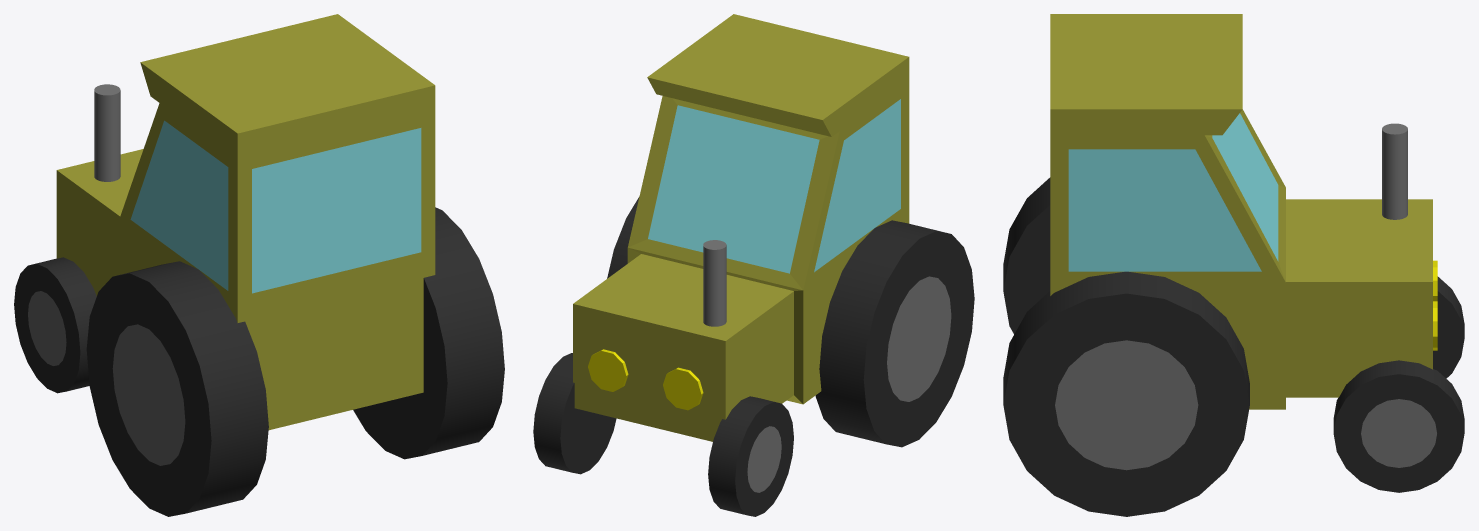
Rendered from Tractor.fbx.
The picture shows the model from 3 angles, left to right: view 1: azimuth 30°, elevation 25°; view 2: azimuth 150°, elevation 25°; view 3: azimuth 270°, elevation 25°; orthographic projection. The views are drawn at different scales.
Visible parts, largest first — view 1: Tractor; view 2: Tractor; view 3: Tractor.
Boxes of the visible parts, box(x1,y1,x2,y2) form: Tractor: box(14, 14, 504, 516); Tractor: box(533, 14, 974, 516); Tractor: box(1003, 14, 1464, 516).
Size of the model in its own units: 18.27 by 23.26 by 25.21.
